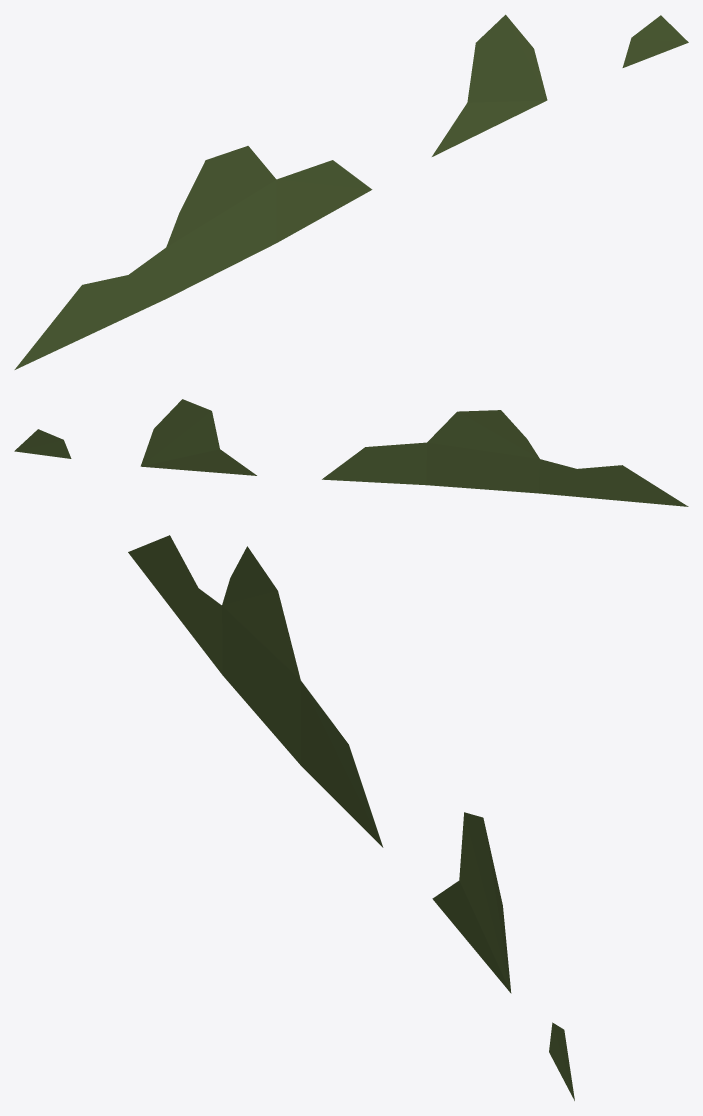
File: SM_Env_Background_Island_01.glb
3 views of the same model, one above another, from view 1: azimuth 30°, elevation 25°; view 2: azimuth 150°, elevation 25°; view 3: azimuth 270°, elevation 25° (orthographic). The views are drawn at different scales.
Parts seen in each view (by area): view 1: SM_Env_Background_Island_01_part00; view 2: SM_Env_Background_Island_01_part00; view 3: SM_Env_Background_Island_01_part00.
Boxes of the visible parts, <box> form: SM_Env_Background_Island_01_part00: <box>14,14,688,369</box>; SM_Env_Background_Island_01_part00: <box>14,399,688,506</box>; SM_Env_Background_Island_01_part00: <box>128,535,574,1100</box>.
Size of the model in its own units: 45.68 by 6.22 by 15.71.
Materials: 1 (1 with a texture image).
